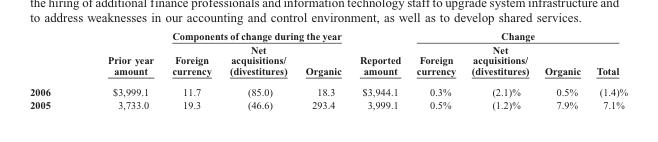table: (29, 29, 627, 110)
table column: (78, 29, 162, 110), (219, 29, 295, 110), (463, 29, 536, 110), (349, 29, 408, 110), (162, 29, 219, 110), (408, 29, 463, 110), (295, 29, 349, 110), (536, 29, 587, 110), (29, 29, 78, 110), (587, 29, 627, 110)
table column header: (29, 29, 627, 80)
table row: (29, 42, 627, 80), (29, 80, 627, 98), (29, 29, 627, 42), (29, 98, 627, 110)
table spanning cell: (78, 29, 162, 80), (349, 29, 408, 80), (408, 29, 627, 42), (162, 29, 349, 42)
